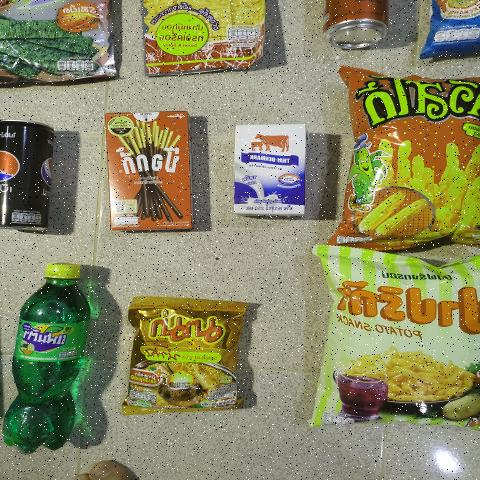mama: (127, 300, 247, 409)
paprika: (323, 252, 480, 422)
pepsi_black: (0, 124, 63, 246)
pokki: (106, 112, 187, 232)
thai_denmark: (233, 121, 308, 220)
twisco: (350, 63, 480, 264)
